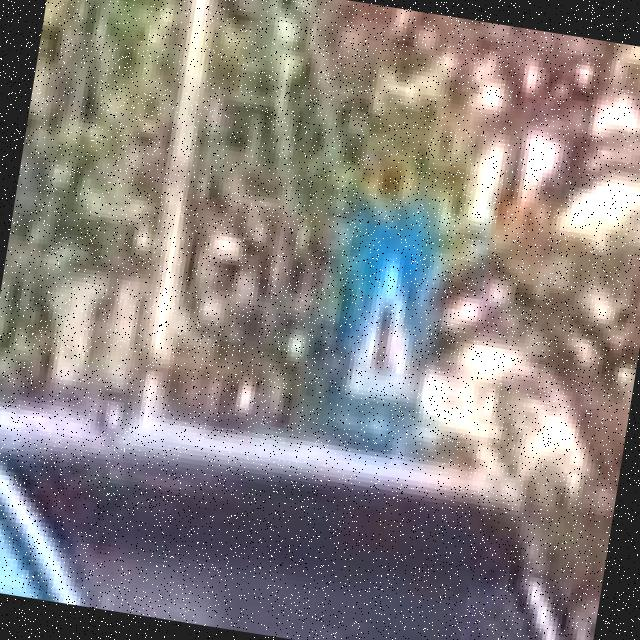Przejscie dla pieszych: (322, 198, 451, 446)
